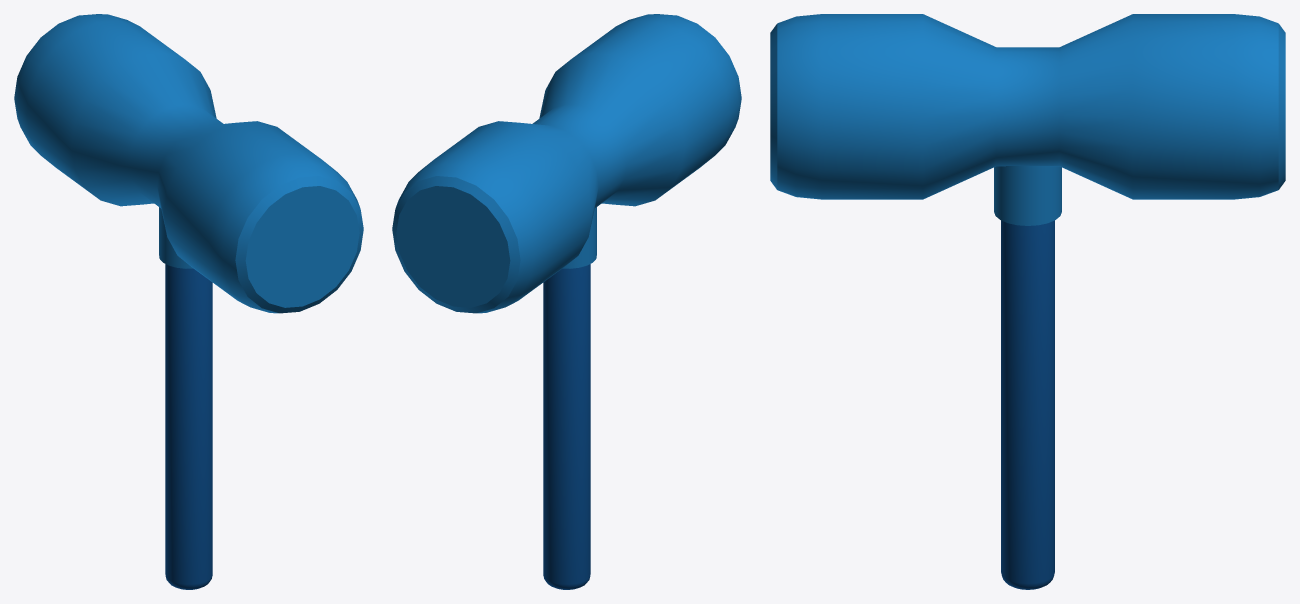
The model's file is hammer-1.glb.
The picture shows the model from 3 angles, left to right: view 1: azimuth 30°, elevation 25°; view 2: azimuth 150°, elevation 25°; view 3: azimuth 270°, elevation 25°; orthographic projection. The views are drawn at different scales.
Parts seen in each view (by area): view 1: hammer_head, hammer_handle; view 2: hammer_head, hammer_handle; view 3: hammer_head, hammer_handle.
Boxes of the visible parts, box(x1,y1,x2,y2) form: hammer_head: box(14, 14, 363, 313); hammer_handle: box(165, 264, 212, 589); hammer_head: box(392, 14, 741, 313); hammer_handle: box(543, 264, 590, 589); hammer_head: box(770, 14, 1285, 225); hammer_handle: box(1001, 220, 1054, 589).
Size of the model in its own units: 229 by 757 by 631.
